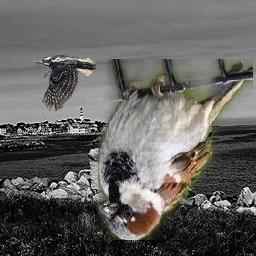Sparrow: (99, 60, 254, 241)
Woodpecker: (34, 55, 96, 112)
